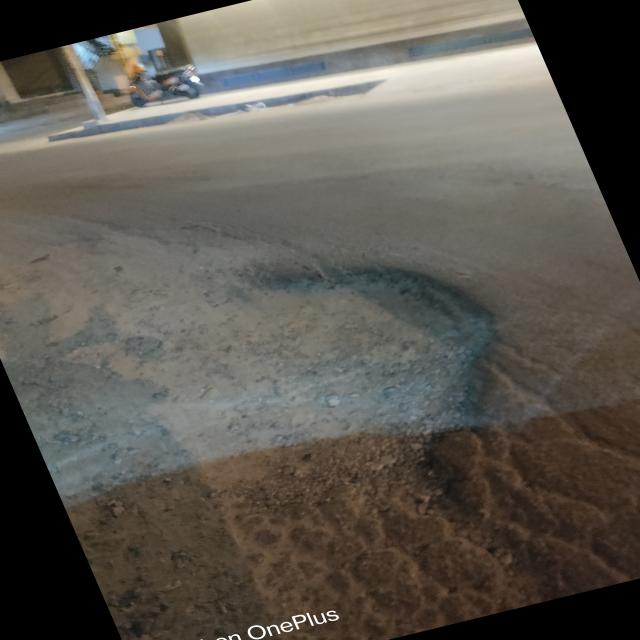potholes: (220, 262, 507, 492)
